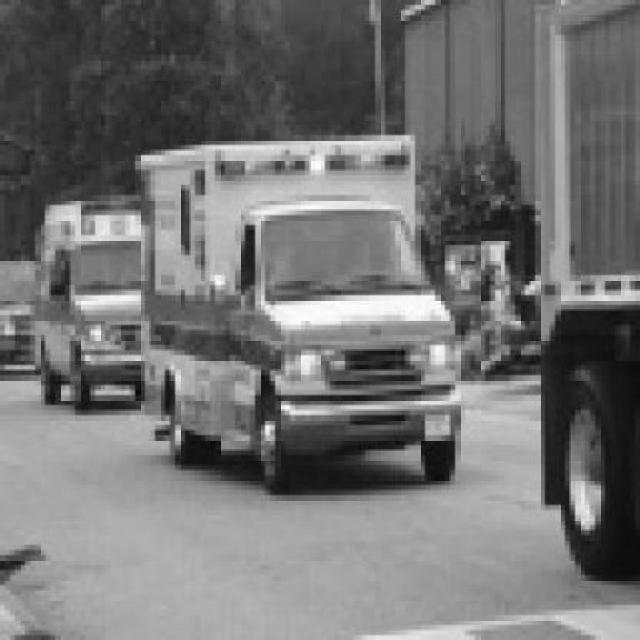Ambulance: (136, 136, 463, 497), (34, 200, 144, 411)
